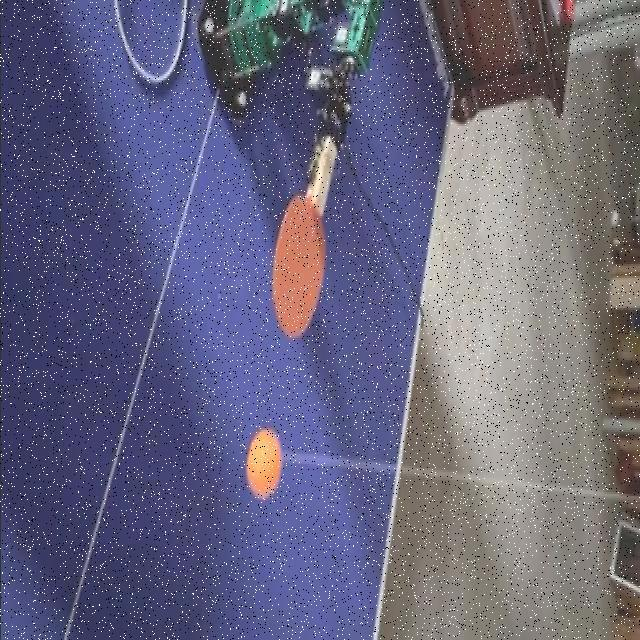ping-pong-ball: (248, 422, 280, 496)
